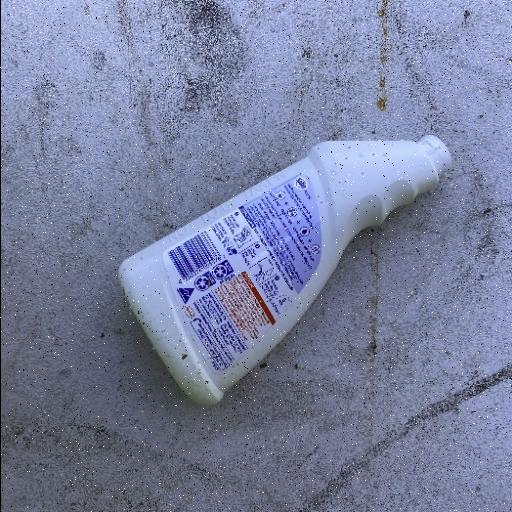Plastic: (116, 132, 454, 406)
